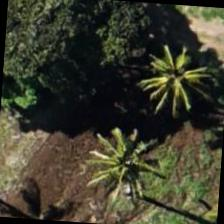Kelapa_Sawit: (76, 120, 172, 216), (126, 34, 222, 130)
